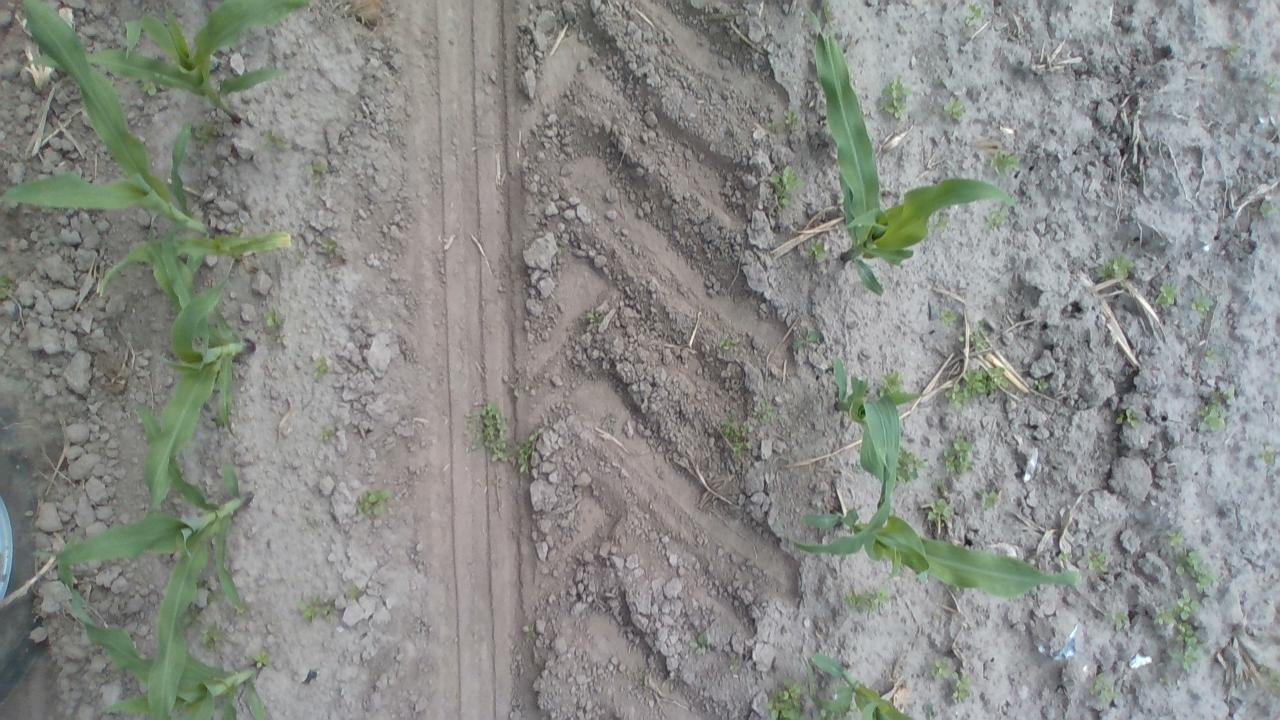Maize: (1, 12, 296, 300), (39, 387, 260, 720), (796, 0, 1026, 302), (120, 213, 263, 524), (2, 0, 318, 122), (779, 492, 1092, 596), (55, 577, 274, 719), (818, 347, 918, 547), (796, 652, 930, 719)
Weeds: (1156, 590, 1204, 674), (467, 398, 514, 467), (946, 362, 1009, 406), (1170, 548, 1217, 594), (766, 164, 808, 210), (843, 580, 893, 616), (941, 430, 979, 476), (763, 680, 807, 718), (877, 74, 913, 120), (720, 413, 754, 458), (296, 590, 339, 625), (516, 424, 545, 474), (1093, 249, 1134, 282), (895, 444, 927, 486), (355, 487, 393, 520), (789, 323, 824, 356), (984, 146, 1021, 177), (1089, 672, 1119, 708), (923, 498, 957, 529), (1194, 404, 1228, 434), (964, 320, 994, 354), (190, 118, 220, 148), (1189, 288, 1218, 318), (982, 203, 1012, 231), (877, 369, 907, 396), (260, 127, 292, 152), (949, 672, 974, 704), (200, 622, 223, 655), (1156, 282, 1180, 312), (0, 268, 19, 304), (182, 603, 204, 633), (1108, 608, 1134, 633), (1084, 548, 1109, 574), (1254, 663, 1278, 690), (304, 158, 331, 182), (942, 95, 964, 124), (688, 632, 712, 657), (1163, 527, 1187, 552), (319, 235, 343, 259), (1118, 406, 1142, 430), (1213, 381, 1236, 406), (754, 398, 776, 424), (976, 487, 1000, 510), (806, 238, 829, 262), (264, 306, 286, 331), (964, 2, 989, 24), (783, 107, 805, 132), (814, 698, 844, 716), (198, 580, 220, 604), (930, 656, 951, 681), (250, 650, 275, 670), (310, 355, 330, 380), (1220, 41, 1246, 60), (138, 77, 162, 97), (718, 332, 739, 354), (1260, 72, 1277, 98), (319, 424, 340, 445), (938, 304, 958, 326), (634, 665, 652, 689), (344, 581, 364, 602), (584, 305, 602, 328), (507, 376, 522, 403), (1056, 548, 1076, 568), (1258, 446, 1276, 468), (935, 210, 953, 231), (523, 622, 540, 644), (1260, 196, 1276, 219), (1032, 377, 1052, 394), (1202, 344, 1220, 362), (727, 656, 745, 674), (1129, 168, 1146, 185), (292, 246, 306, 266), (931, 476, 951, 489), (921, 702, 936, 718), (555, 240, 568, 258), (1158, 672, 1172, 687), (234, 604, 248, 614)
